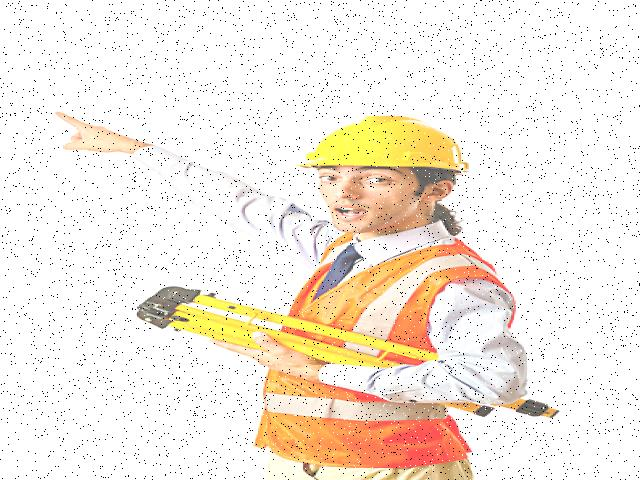Helmet: (293, 109, 478, 180)
